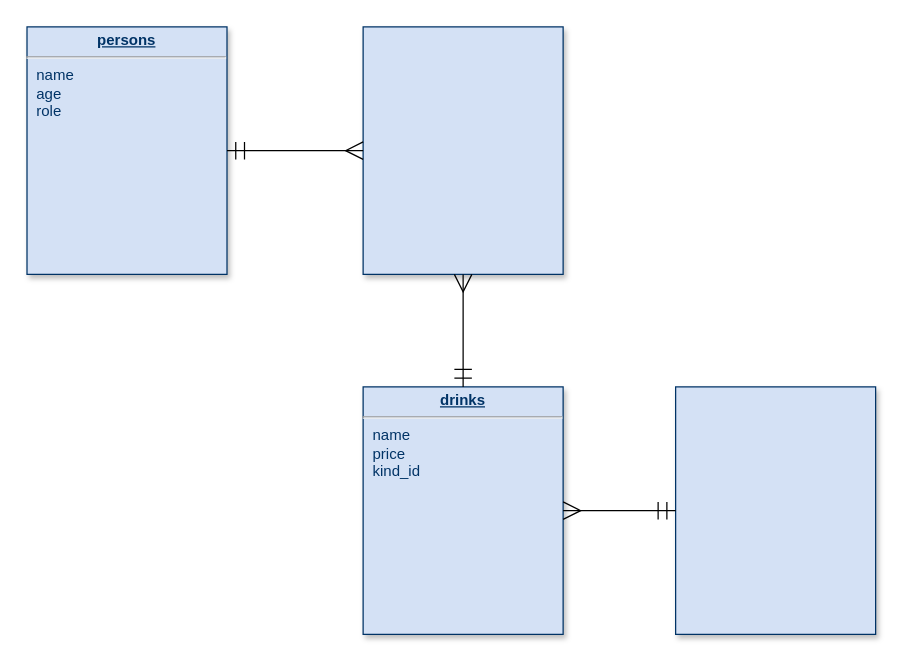
Some shapes in this 905 by 665 pixel diagram are drawn without their labels. The shapes that lost their labels are listed below. From the top down, each one's centre as x and y in pixels, then its label:
At point (464, 152): "person_drinks person_id drink_id quantity".
At point (776, 512): "drink_kinds kind isAlcoholic".
